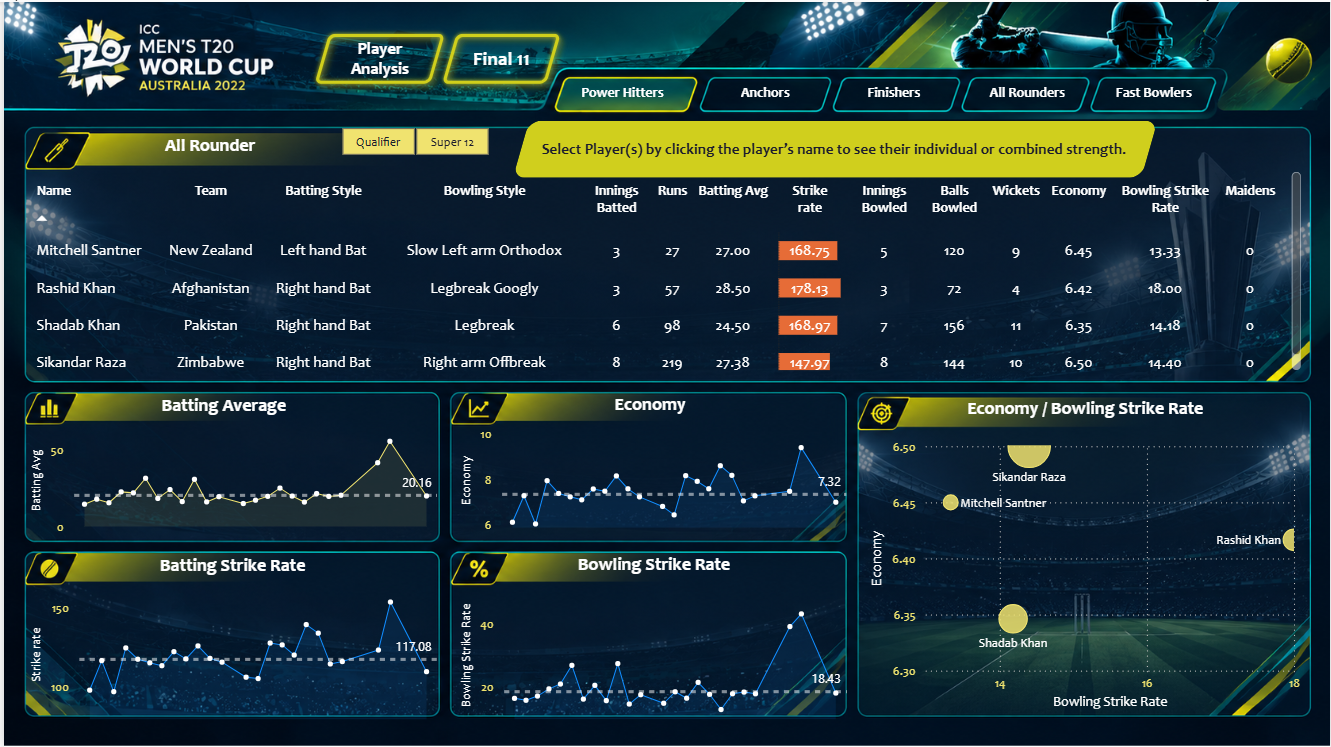

Layout of this report page (visuals, bound fields, positions):
{"tool":"powerbi","page":{"name":"All Rounders","canvas":[1280,720],"ordinal":3},"visuals":[{"type":"card","fields":{"Values":["Key_Measures.Strike rate"]},"box":[785.2,115,93,60],"z":0,"group":"g2"},{"type":"shape","box":[81.9,124.4,233.8,28.8],"z":0,"group":"g1"},{"type":"shape","box":[506.2,373.8,233.8,28.8],"z":0,"group":"g5"},{"type":"shape","box":[95,375,233.8,28.8],"z":0,"group":"g3"},{"type":"shape","box":[906.2,377.5,275,28.8],"z":0,"group":"g7"},{"type":"shape","box":[103.8,526.2,233.8,35],"z":0,"group":"g4"},{"type":"shape","box":[510,528.8,233.8,28.8],"z":0,"group":"g6"},{"type":"card","fields":{"Values":["Key_Measures.Bat Avg"]},"box":[686.2,115,92,60],"z":1000,"group":"g2"},{"type":"shape","box":[20,415,788.8,282.5],"z":1000},{"type":"actionButton","box":[678.8,66.2,111,42],"z":2000},{"type":"card","fields":{"Values":["Key_Measures.Bowling Strike Rate"]},"box":[991.2,115,100,60],"z":2000,"group":"g2"},{"type":"actionButton","box":[525,66.2,144,42],"z":3000},{"type":"card","fields":{"Values":["Key_Measures.Economy"]},"box":[884.2,115,101,60],"z":3000,"group":"g2"},{"type":"actionButton","box":[808.8,66.2,101,42],"z":4000},{"type":"actionButton","box":[930,66.2,115,42],"z":5000},{"type":"actionButton","box":[1023.8,66.2,171,42],"z":6000},{"type":"shape","box":[20,102.5,647.5,257.5],"z":9000},{"type":"group","id":"g1","title":"Group 2","box":[81.9,124.4,233.8,28.8],"z":10000},{"type":"slicer","fields":{"Values":["dim_match_summary.stage"]},"box":[300,115,191.2,38.8],"z":11000},{"type":"tableEx","fields":{"Values":["dim_player.name","Min(dim_player.team)","Min(dim_player.Batting Style)","Min(dim_player.Bowling Style)","Key_Measures.Total Innings Batted","Key_Measures.Total Runs","Key_Measures.Bat Avg","Key_Measures.Strike rate","Key_Measures.Total Innings Bowled","Key_Measures.Balls Bowled","Key_Measures.wickets","Key_Measures.Economy"]},"box":[20,158.8,1236.2,201.2],"z":12000},{"type":"shape","box":[491.2,115,622.5,55],"z":13000},{"type":"shape","box":[506.2,125,173,34],"z":14000},{"type":"group","id":"g2","title":"Combined Perfoamce Metrices","box":[686.2,115,405,60],"z":15000},{"type":"scatterChart","fields":{"Category":["dim_player.name"],"Size":["Key_Measures.Total Runs"],"X":["Key_Measures.Bowling Strike Rate"],"Y":["Key_Measures.Economy"]},"box":[831.2,415,425,272.5],"z":16000},{"type":"actionButton","title":"Button Player Ana selected","box":[291.2,21.2,143.8,66.2],"z":17000},{"type":"actionButton","title":"Button Player Ana selected","box":[413.8,21.2,132.5,66.2],"z":18000},{"type":"shape","box":[510,115,581.2,55],"z":19000},{"type":"shape","box":[832.5,392.5,425,295],"z":20000},{"type":"areaChart","fields":{"Category":["dim_match_summary.Match_Date.Variation.Date Hierarchy.Day"],"Y":["Key_Measures.Economy"]},"box":[435,402.5,382.5,117.5],"z":21000},{"type":"areaChart","fields":{"Category":["dim_match_summary.Match_Date.Variation.Date Hierarchy.Day"],"Y":["Key_Measures.Bowling Strike Rate"]},"box":[435,556.2,382.5,141.2],"z":22000},{"type":"areaChart","fields":{"Category":["dim_match_summary.Match_Date.Variation.Date Hierarchy.Day"],"Y":["Key_Measures.Bat Avg"]},"box":[20,402.5,402.5,117.5],"z":23000},{"type":"areaChart","fields":{"Category":["dim_match_summary.Match_Date.Variation.Date Hierarchy.Day"],"Y":["Key_Measures.Strike rate"]},"box":[20,555,402.5,142.5],"z":24000},{"type":"group","id":"g3","title":"Group 2","box":[95,375,233.8,28.8],"z":24001},{"type":"group","id":"g4","title":"Group 2","box":[103.8,526.2,233.8,35],"z":24002},{"type":"group","id":"g5","title":"Group 2","box":[506.2,373.8,233.8,28.8],"z":24003},{"type":"group","id":"g6","title":"Group 2","box":[510,528.8,233.8,28.8],"z":24004},{"type":"group","id":"g7","title":"Group 2","box":[906.2,377.5,275,28.8],"z":24005}]}

Visuals, with their boxes in screenshot pixels (x1, y1, x2, y2), scaled from the page's 1280x720 canvas onto the 1331x747 screenshot:
card - Key_Measures.Strike rate: crop(816, 119, 913, 182)
shape: crop(85, 129, 328, 159)
shape: crop(526, 388, 769, 418)
shape: crop(99, 389, 342, 419)
shape: crop(942, 392, 1228, 422)
shape: crop(108, 546, 351, 582)
shape: crop(530, 549, 773, 579)
card - Key_Measures.Bat Avg: crop(714, 119, 809, 182)
shape: crop(21, 431, 841, 724)
actionButton: crop(706, 69, 821, 112)
card - Key_Measures.Bowling Strike Rate: crop(1031, 119, 1135, 182)
actionButton: crop(546, 69, 696, 112)
card - Key_Measures.Economy: crop(919, 119, 1024, 182)
actionButton: crop(841, 69, 946, 112)
actionButton: crop(967, 69, 1087, 112)
actionButton: crop(1065, 69, 1242, 112)
shape: crop(21, 106, 694, 374)
"Group 2" group: crop(85, 129, 328, 159)
slicer - dim_match_summary.stage: crop(312, 119, 511, 160)
tableEx - dim_player.name x Min(dim_player.team): crop(21, 165, 1306, 374)
shape: crop(511, 119, 1158, 176)
shape: crop(526, 130, 706, 165)
"Combined Perfoamce Metrices" group: crop(714, 119, 1135, 182)
scatterChart - dim_player.name x Key_Measures.Total Runs: crop(864, 431, 1306, 713)
"Button Player Ana selected" actionButton: crop(303, 22, 452, 91)
"Button Player Ana selected" actionButton: crop(430, 22, 568, 91)
shape: crop(530, 119, 1135, 176)
shape: crop(866, 407, 1308, 713)
areaChart - dim_match_summary.Match_Date.Variation.Date Hierarchy.Day x Key_Measures.Economy: crop(452, 418, 850, 540)
areaChart - dim_match_summary.Match_Date.Variation.Date Hierarchy.Day x Key_Measures.Bowling Strike Rate: crop(452, 577, 850, 724)
areaChart - dim_match_summary.Match_Date.Variation.Date Hierarchy.Day x Key_Measures.Bat Avg: crop(21, 418, 439, 540)
areaChart - dim_match_summary.Match_Date.Variation.Date Hierarchy.Day x Key_Measures.Strike rate: crop(21, 576, 439, 724)
"Group 2" group: crop(99, 389, 342, 419)
"Group 2" group: crop(108, 546, 351, 582)
"Group 2" group: crop(526, 388, 769, 418)
"Group 2" group: crop(530, 549, 773, 579)
"Group 2" group: crop(942, 392, 1228, 422)
